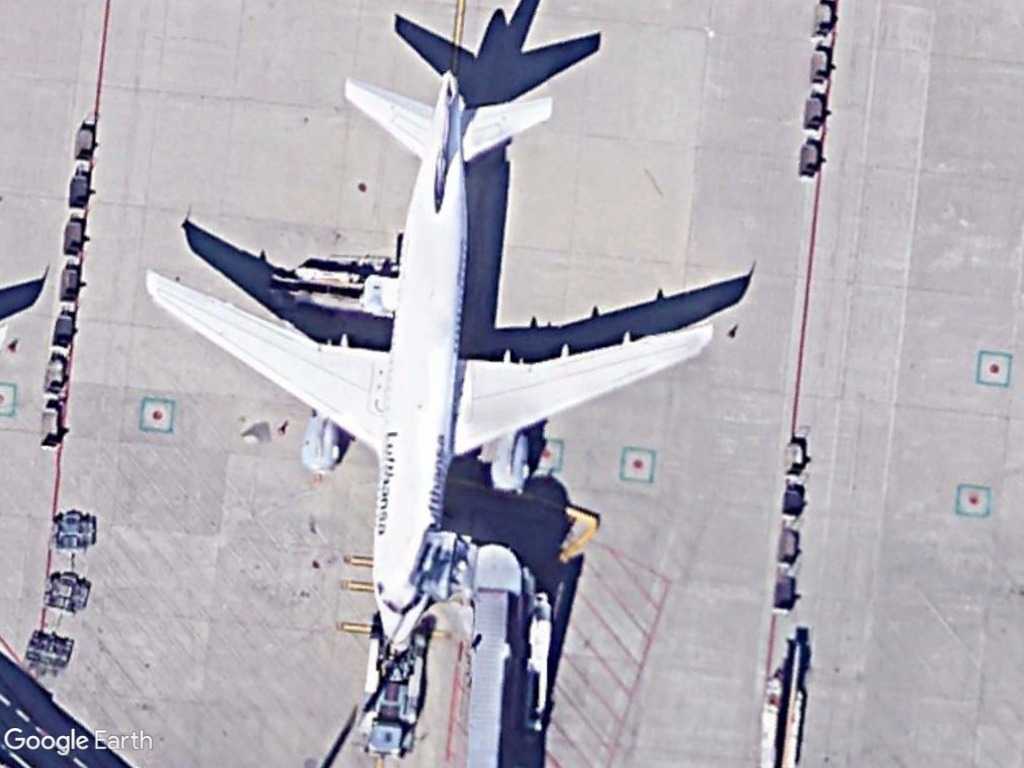airliner: (140, 62, 720, 650)
pushback: (360, 634, 430, 758)
stairtruck: (265, 256, 393, 322)
